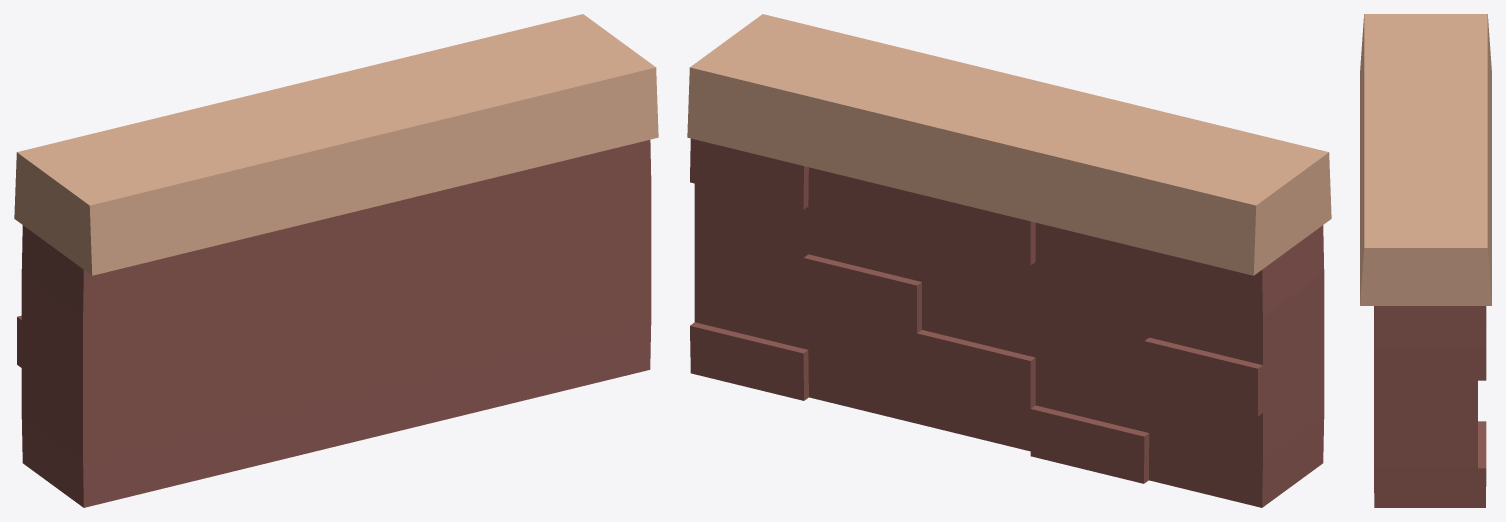
The model's file is wall.glb.
The picture shows the model from 3 angles, left to right: view 1: azimuth 30°, elevation 25°; view 2: azimuth 150°, elevation 25°; view 3: azimuth 270°, elevation 25°; orthographic projection. The views are drawn at different scales.
Visible parts, largest first — view 1: wall.001; view 2: wall.001; view 3: wall.001.
Part boxes in pixels (box(x1,y1,x2,y2)): wall.001: box(14, 14, 658, 507); wall.001: box(687, 14, 1331, 507); wall.001: box(1360, 14, 1491, 507).
Bounding box in the file's own units: 4 × 2.07 × 0.9506.
